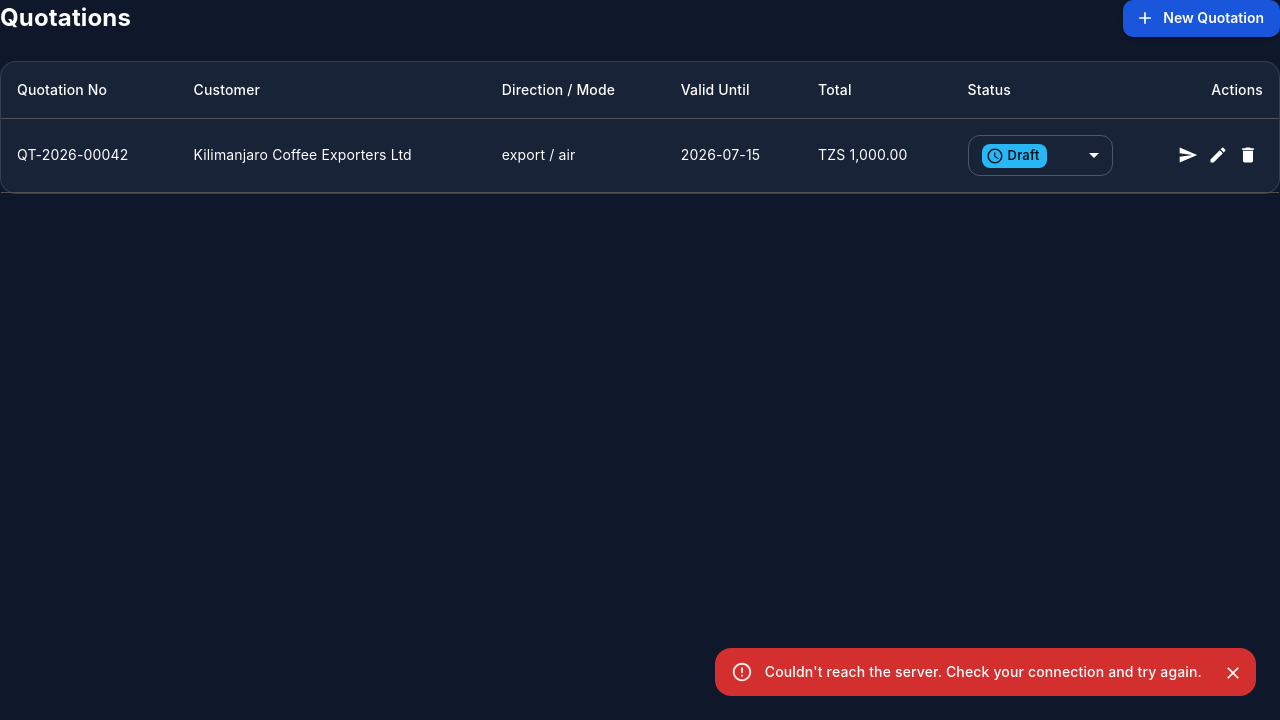
Test: QuotationsPage › does not delete when the confirmation dialog is cancelled
Check: the text "QT-2026-00042" is shown, box top-left (1, 118), bottom-right (178, 193)
Click the button named "Delete" at {"x": 1248, "y": 155}, box top-left (1233, 140), bottom-right (1263, 170)
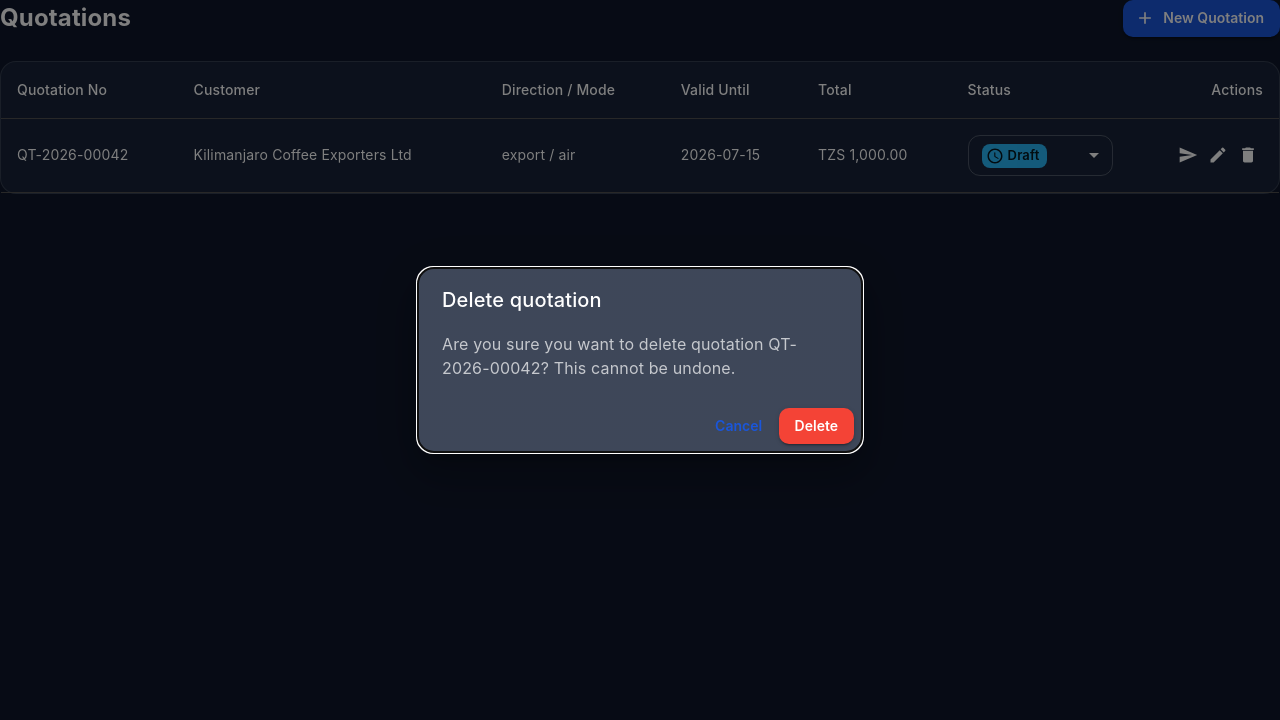
Check: the heading "Delete quotation" is shown, box top-left (442, 288), bottom-right (602, 312)
Click the button "Cancel" at {"x": 739, "y": 426}, box top-left (707, 408), bottom-right (771, 444)
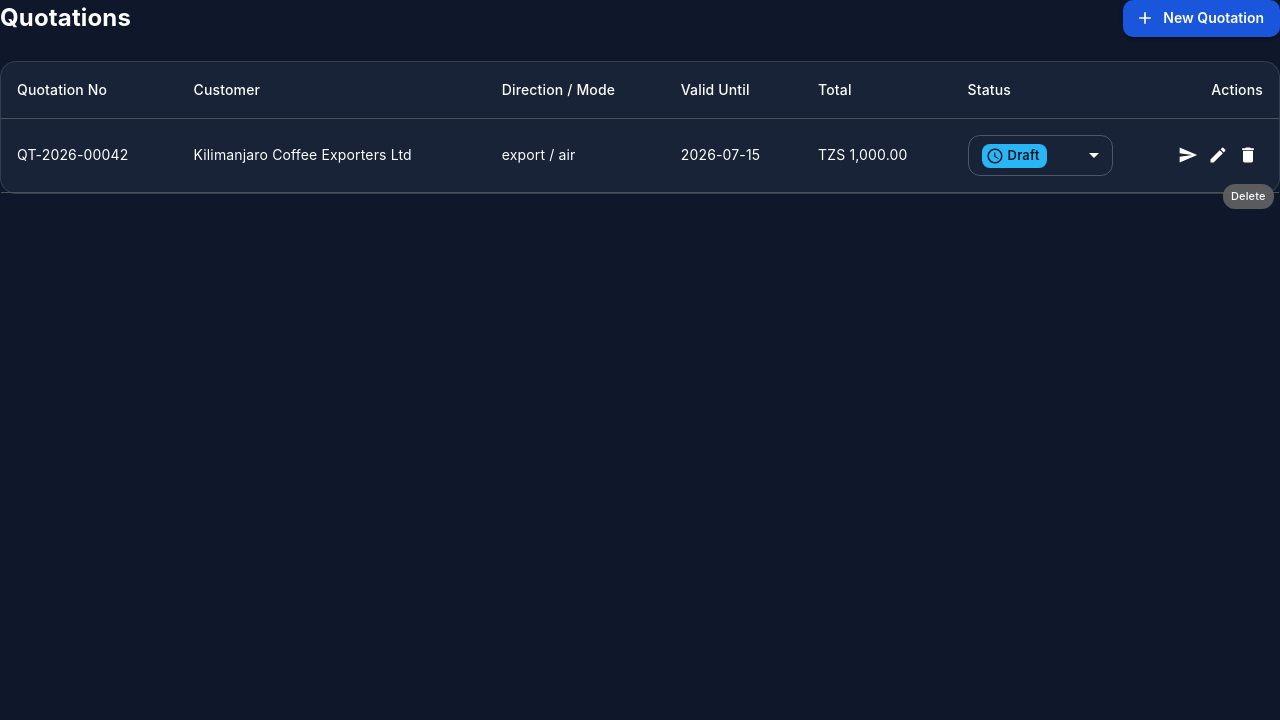
Check: the heading "Delete quotation" is gone
